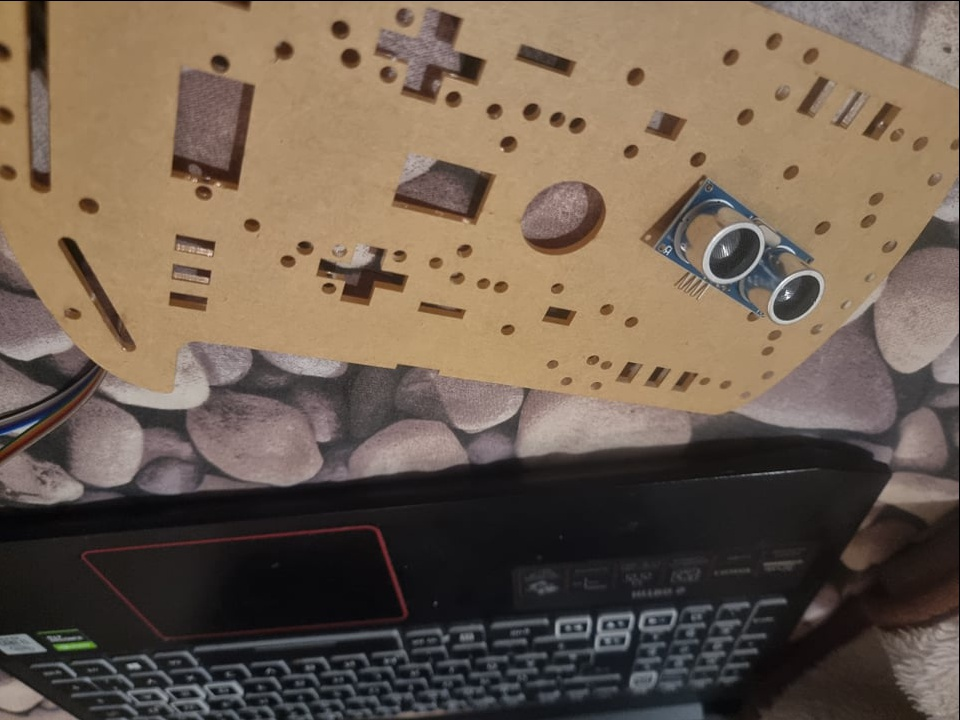SENSOR: (653, 175, 821, 324)
